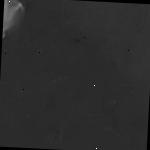colony: (1, 0, 33, 52)
